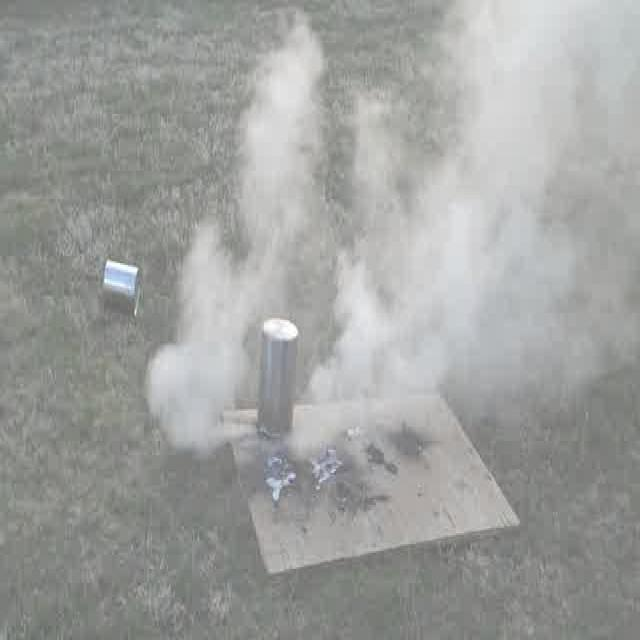Smoke: (141, 0, 640, 459)
